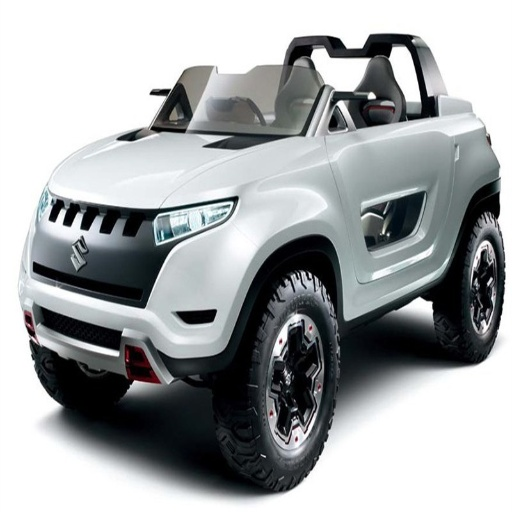front_bumper: (19, 190, 259, 380), (395, 234, 452, 285)
front_glass: (151, 46, 325, 147)
front_left_door: (323, 83, 402, 287)
trunk: (390, 126, 486, 252)
